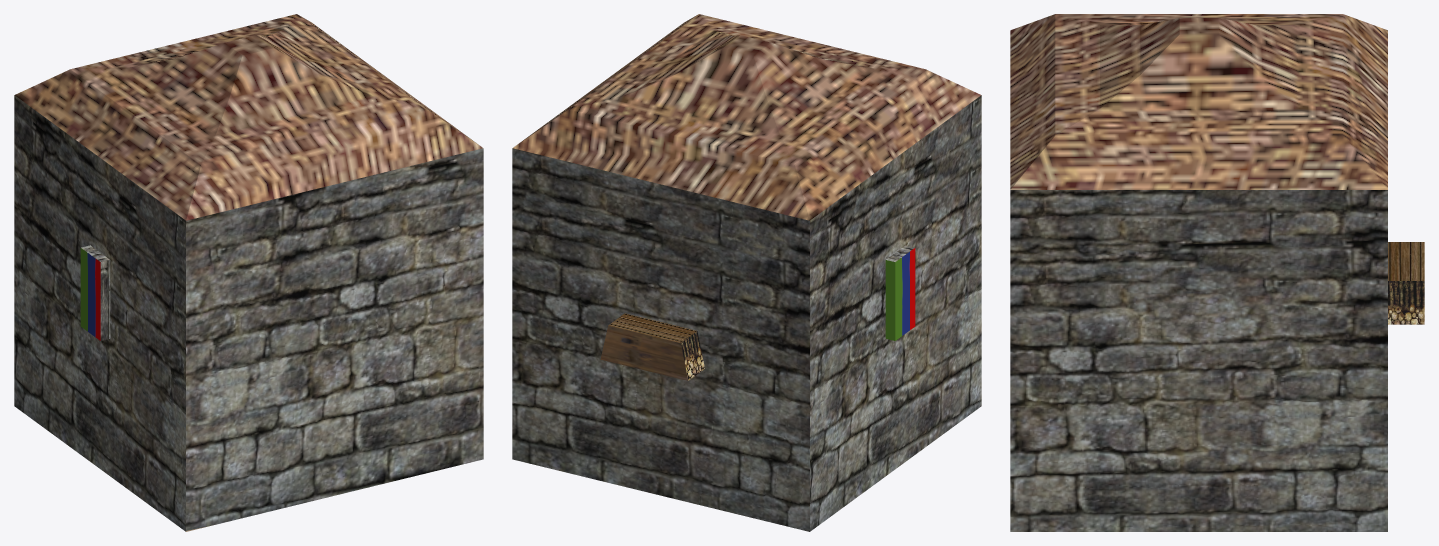
File: inca_storehouse.dae
3 renders of one model, left to right at view 1: azimuth 30°, elevation 25°; view 2: azimuth 150°, elevation 25°; view 3: azimuth 270°, elevation 25°, orthographic. The views are drawn at different scales.
Parts seen in each view (by area): view 1: storehouse; view 2: storehouse; view 3: storehouse.
Part boxes in pixels (box(x1,y1,x2,y2)): storehouse: box(14, 14, 483, 531); storehouse: box(512, 14, 981, 531); storehouse: box(1010, 14, 1424, 531).
Size of the model in its own units: 17.86 by 18.99 by 21.54.
Materials: 1 (1 with a texture image).
